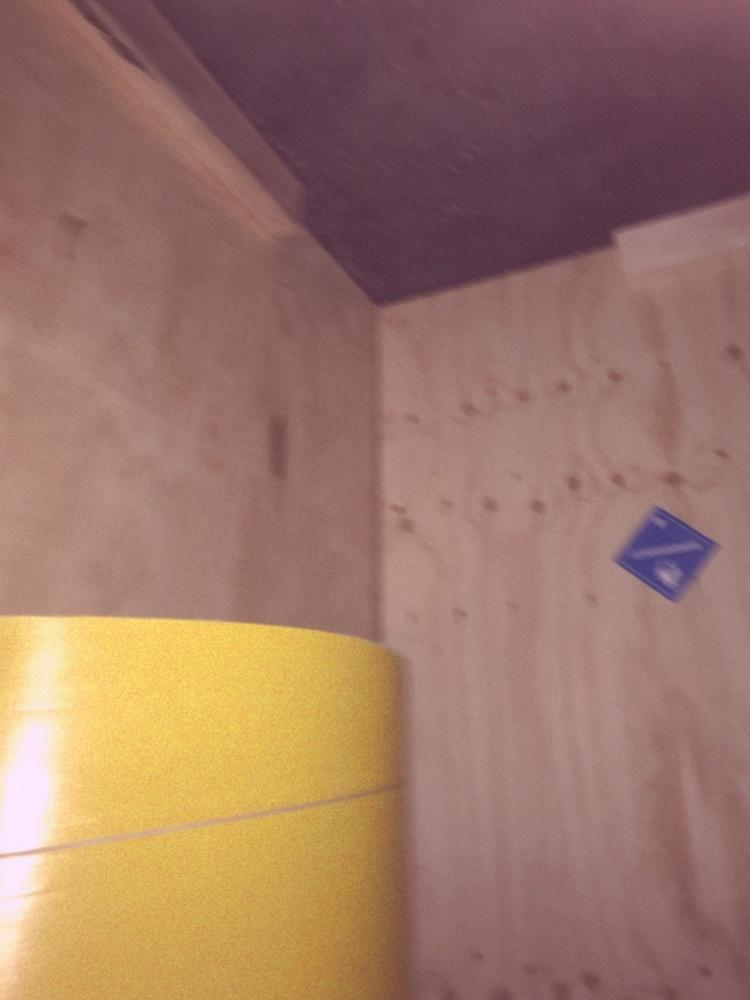dangerous-when-wet: (608, 500, 724, 609)
